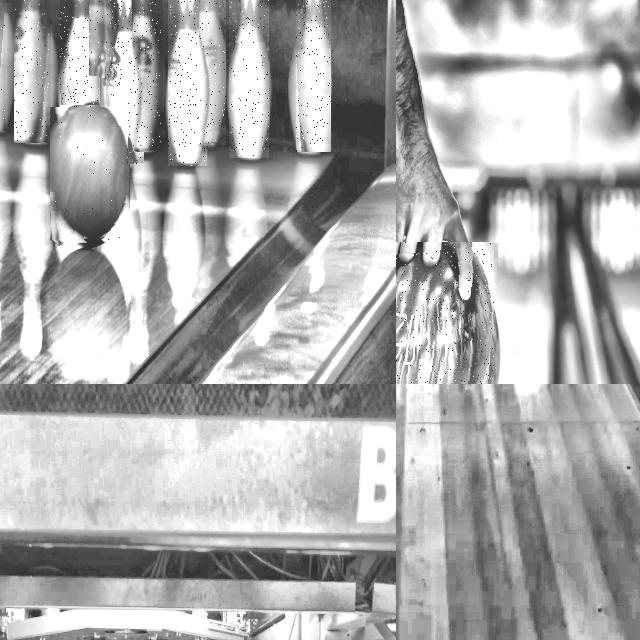bowling-ball: (396, 243, 494, 384), (51, 108, 127, 240)
bowling-pins: (230, 0, 269, 158), (169, 0, 205, 166), (106, 0, 142, 164), (296, 0, 330, 152), (15, 0, 49, 142), (61, 0, 99, 119), (134, 0, 161, 150), (199, 0, 226, 144), (90, 0, 109, 76)
